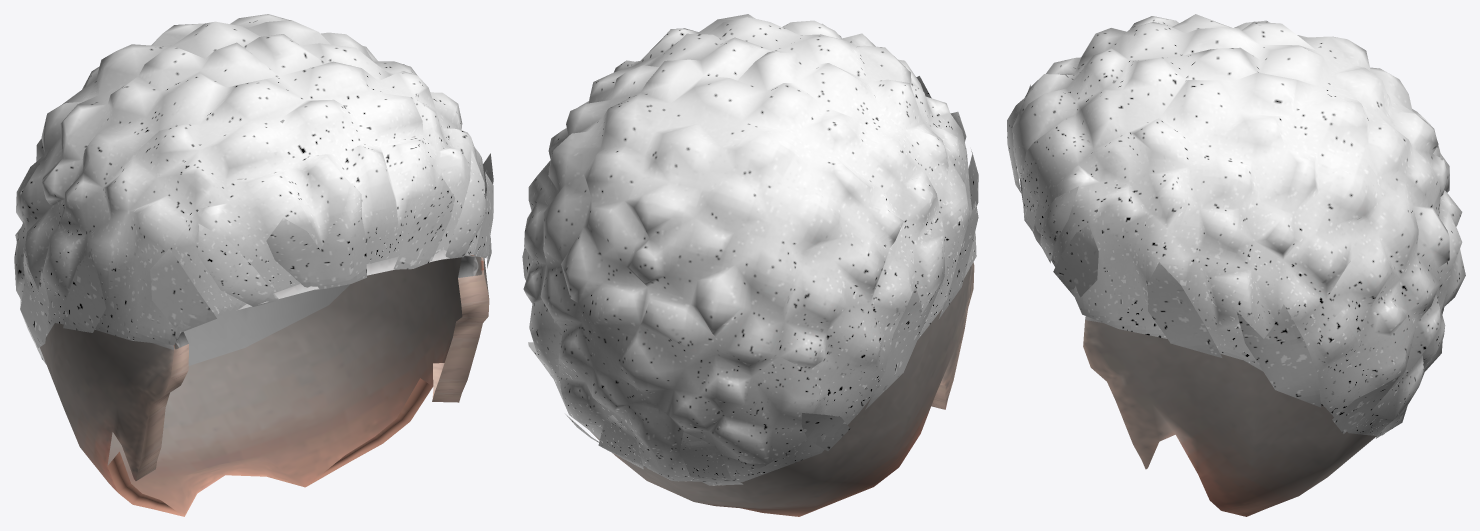
The model's file is p0_hrs0003_00_hrs00.gltf.
3 views of the same model, side by side, from view 1: azimuth 30°, elevation 25°; view 2: azimuth 150°, elevation 25°; view 3: azimuth 270°, elevation 25° (orthographic). The views are drawn at different scales.
Parts seen in each view (by area): view 1: hrs00_hairup_mesh_shape:hairup, hrs00_hairstyle_skin_mesh_shape:hairstyle_skin, hrs00_hairstyle_mesh_shape:hairstyle; view 2: hrs00_hairup_mesh_shape:hairup, hrs00_hairstyle_skin_mesh_shape:hairstyle_skin; view 3: hrs00_hairup_mesh_shape:hairup, hrs00_hairstyle_skin_mesh_shape:hairstyle_skin.
Part boxes in pixels (x1,y1,x2,y2): hrs00_hairup_mesh_shape:hairup: [14, 14, 493, 364]; hrs00_hairstyle_skin_mesh_shape:hairstyle_skin: [40, 257, 489, 516]; hrs00_hairstyle_mesh_shape:hairstyle: [48, 105, 483, 365]; hrs00_hairup_mesh_shape:hairup: [522, 14, 978, 485]; hrs00_hairstyle_skin_mesh_shape:hairstyle_skin: [591, 262, 974, 516]; hrs00_hairup_mesh_shape:hairup: [1007, 14, 1465, 438]; hrs00_hairstyle_skin_mesh_shape:hairstyle_skin: [1083, 320, 1376, 516].
Size of what is drawn, in the model's own units: 0.2453 by 0.2639 by 0.2435.
3 materials, 3 textured.
